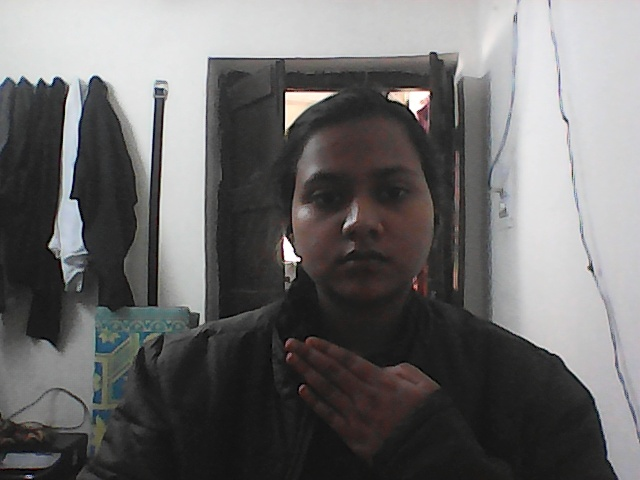Mine: (282, 282, 486, 475)
